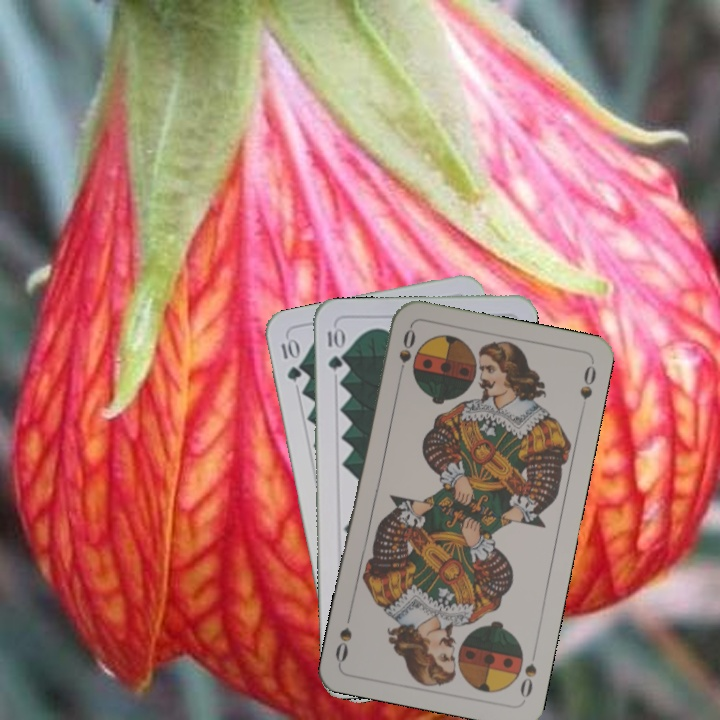G10: (277, 334, 304, 384), (323, 323, 344, 372)
SO: (394, 324, 419, 382), (516, 644, 540, 701)
